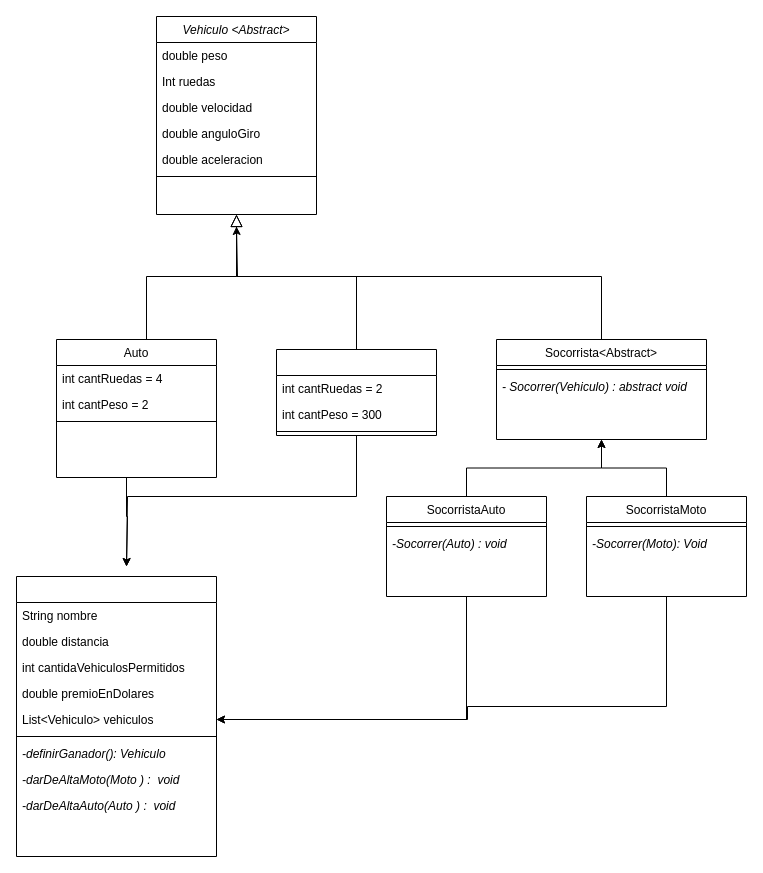
Image size: 763x873. Some labels were removed from this diagram. Here are the shapes that lost their labels. From the top down, the box of each, then its label:
(276, 348, 436, 436): Moto
(16, 576, 216, 856): Carrera
